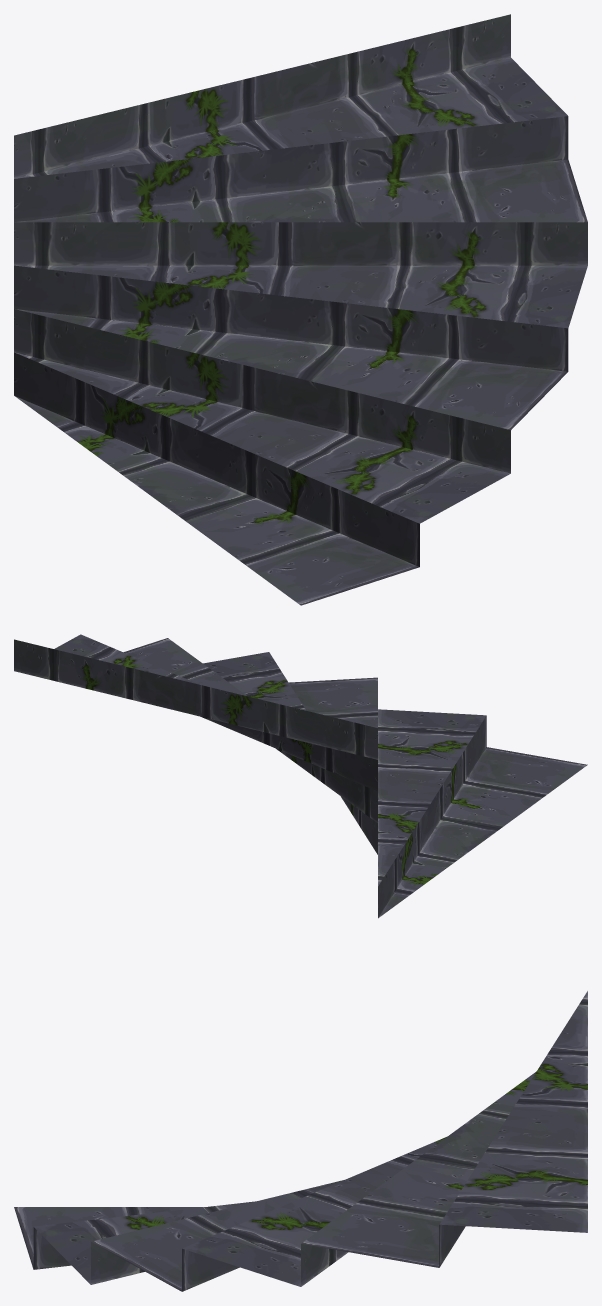
Rendered from MOD_Stairs_01_E_med_SW_BotCap.fbx.
3 renders of one model, top to bottom at view 1: azimuth 30°, elevation 25°; view 2: azimuth 150°, elevation 25°; view 3: azimuth 270°, elevation 25°, orthographic. The views are drawn at different scales.
Parts seen in each view (by area): view 1: MOD_Stairs_01_E_med_SW_BotCap; view 2: MOD_Stairs_01_E_med_SW_BotCap; view 3: MOD_Stairs_01_E_med_SW_BotCap.
Boxes of the visible parts, x1=… form: MOD_Stairs_01_E_med_SW_BotCap: x1=14, y1=14, x2=587, y2=605; MOD_Stairs_01_E_med_SW_BotCap: x1=14, y1=634, x2=587, y2=918; MOD_Stairs_01_E_med_SW_BotCap: x1=14, y1=991, x2=587, y2=1291.
Size of the model in its own units: 400 by 200 by 400.
